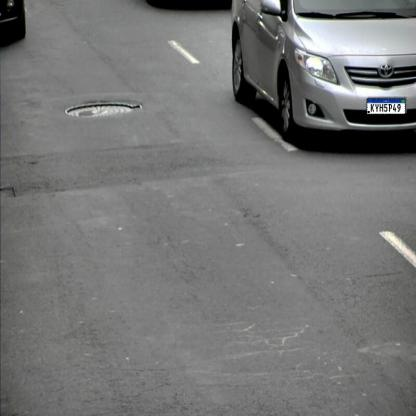PlacaM: (366, 98, 406, 114)
